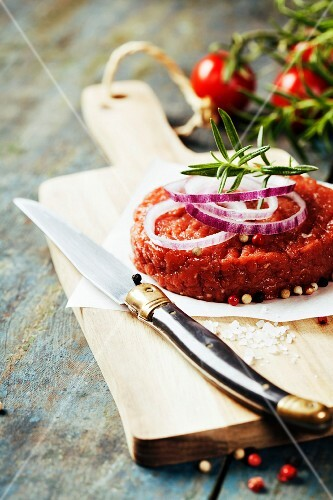ground_beef: (137, 168, 333, 315)
